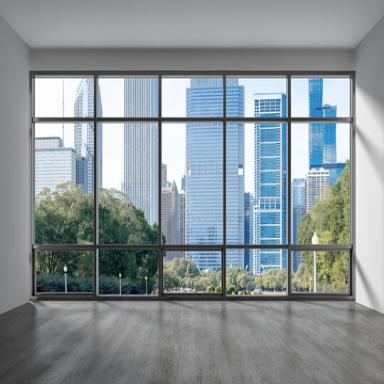glass_panel: (34, 122, 93, 245), (292, 122, 350, 244), (100, 123, 156, 243), (184, 123, 224, 244), (255, 123, 284, 243), (227, 123, 254, 244), (162, 124, 186, 244), (227, 248, 288, 294), (100, 248, 158, 294), (162, 76, 224, 116), (164, 251, 222, 292), (292, 76, 350, 117), (36, 250, 92, 292), (98, 76, 156, 116), (35, 77, 92, 117), (229, 76, 287, 115), (316, 250, 350, 293)
